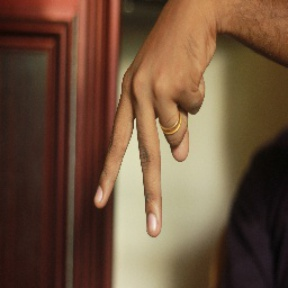Y: (92, 70, 207, 238)
